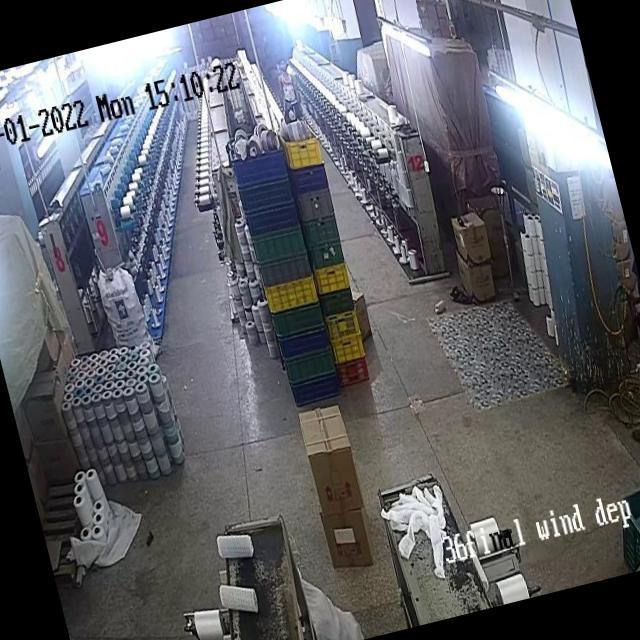person: (602, 271, 640, 442), (274, 56, 302, 116)
